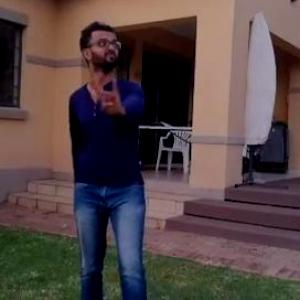takeoff-hand: (94, 73, 128, 118)
